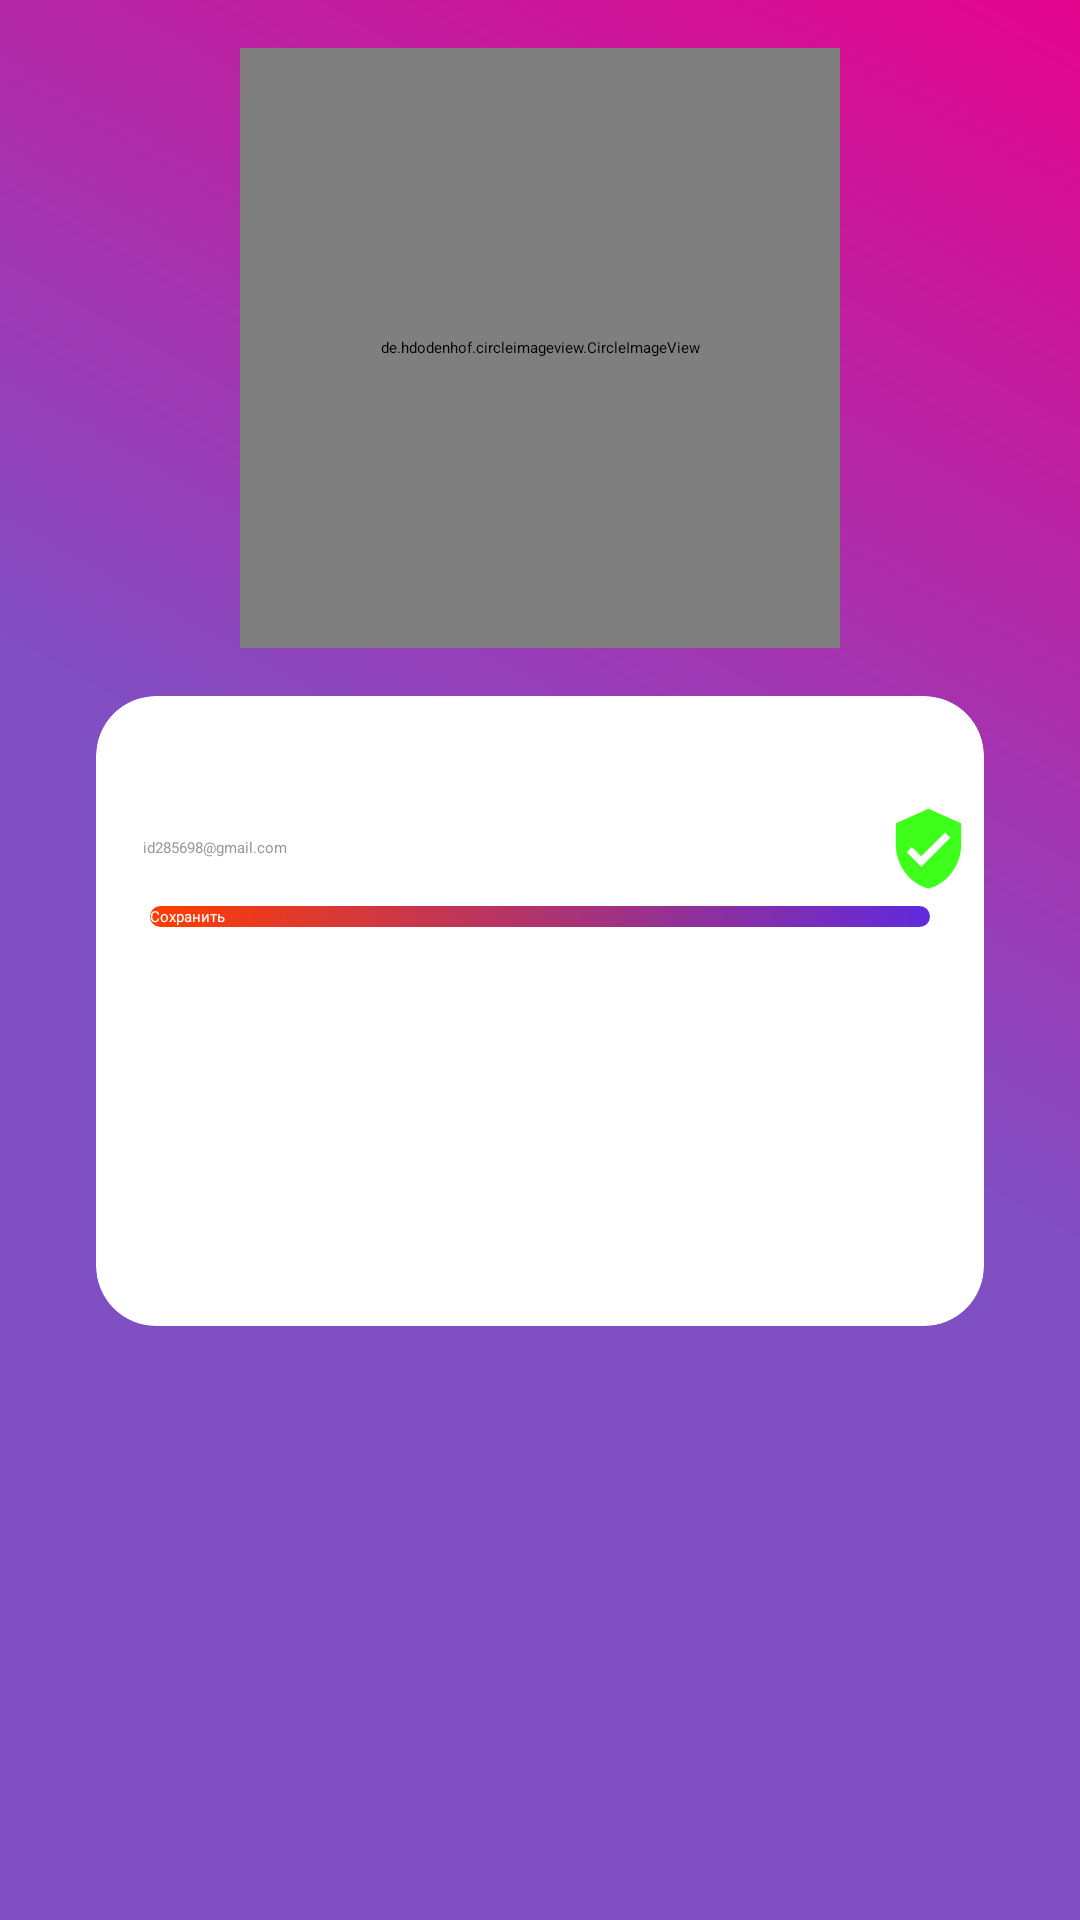

Named icons in this screenshot (1080x1920) and their bounding boxes, (x1, y1, x2, y2):
verified: (895, 808, 962, 889)
